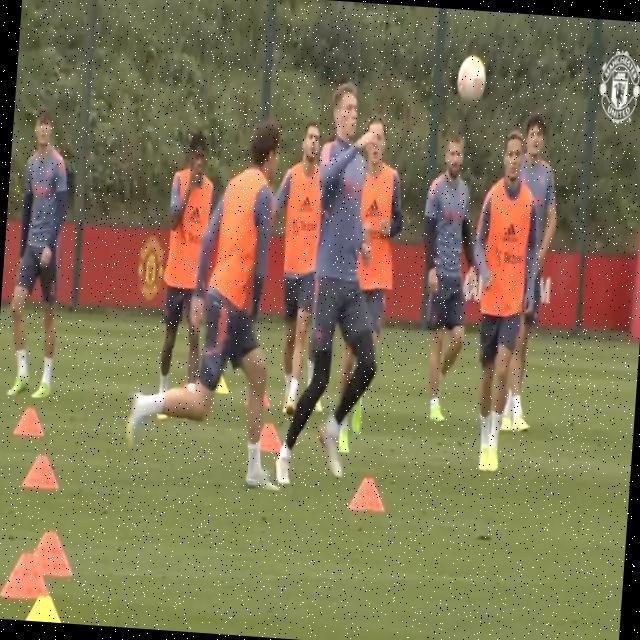Adidas: (364, 195, 383, 219), (501, 220, 518, 245), (186, 203, 203, 228), (298, 193, 315, 214)
